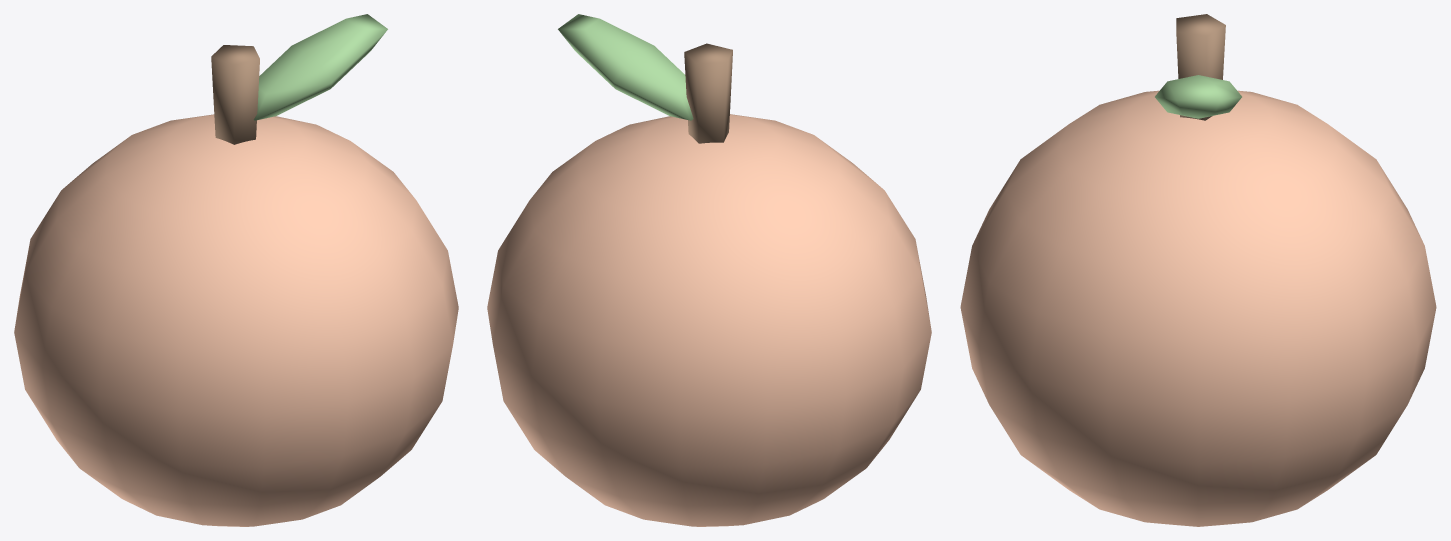
File: item_pessego.glb
3 views of the same model, side by side, from view 1: azimuth 30°, elevation 25°; view 2: azimuth 150°, elevation 25°; view 3: azimuth 270°, elevation 25° (orthographic). The views are drawn at different scales.
Parts seen in each view (by area): view 1: item_pessego; view 2: item_pessego; view 3: item_pessego.
Boxes of the visible parts, x1,y1,x2,y2 form: item_pessego: (14,14,458,526); item_pessego: (487,14,931,526); item_pessego: (960,14,1436,526).
Size of the model in its own units: 0.26 by 0.2908 by 0.26.
